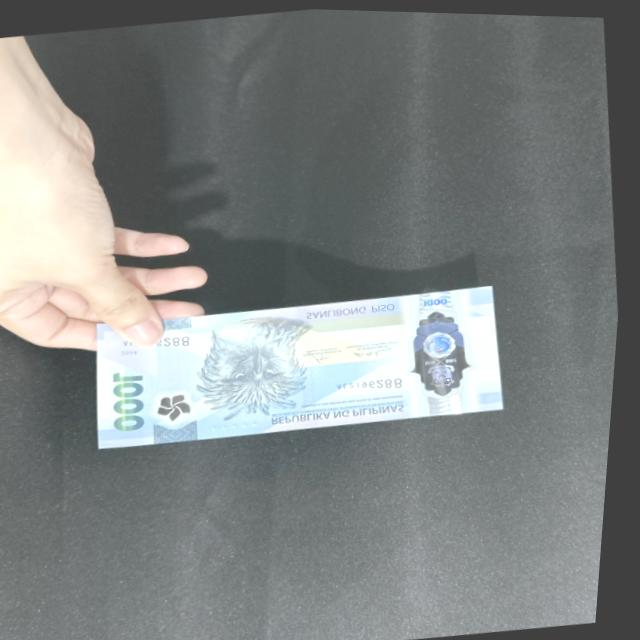clear_window: (411, 300, 480, 396)
eagle: (189, 305, 322, 419)
sampaguita: (153, 389, 198, 422)
serial_number: (333, 363, 413, 399)
